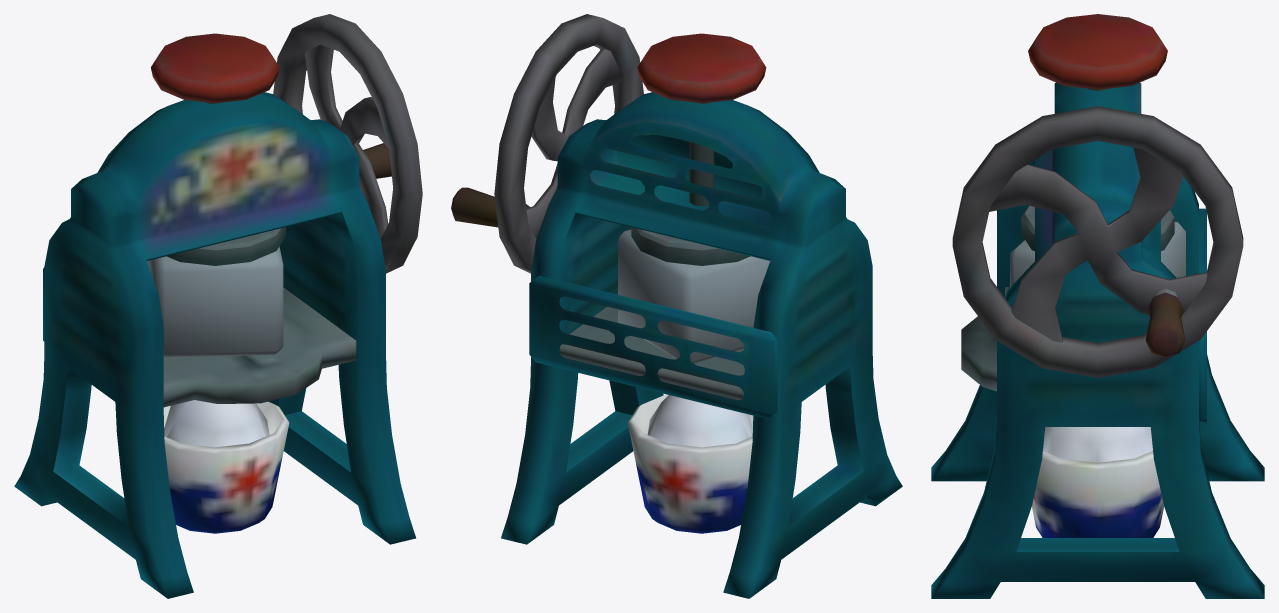
3 renders of one model, left to right at view 1: azimuth 30°, elevation 25°; view 2: azimuth 150°, elevation 25°; view 3: azimuth 270°, elevation 25°, orthographic. The views are drawn at different scales.
Bounding box in the file's own units: 7.66 × 9.87 × 6.05.
Materials: 2 (1 with a texture image).
